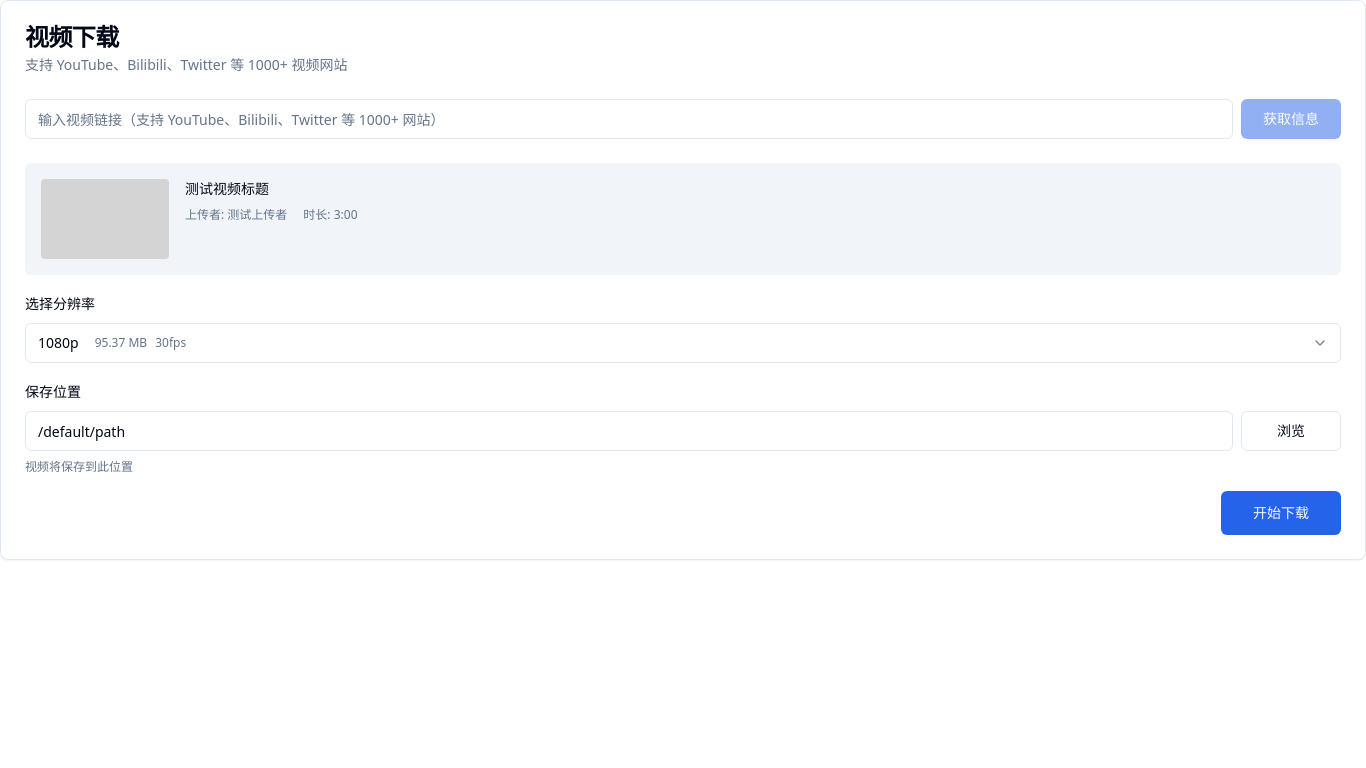
Test: DownloadForm › 应该在获取视频信息失败时显示错误
The width and height of the screenshot is (1366, 768).
In the field with placeholder "输入视频链接（支持 YouTube、Bilibili、Twitter 等 1000+ 网站）": (629, 119) [25,99,1233,139], type "https://unsupported.com/video"
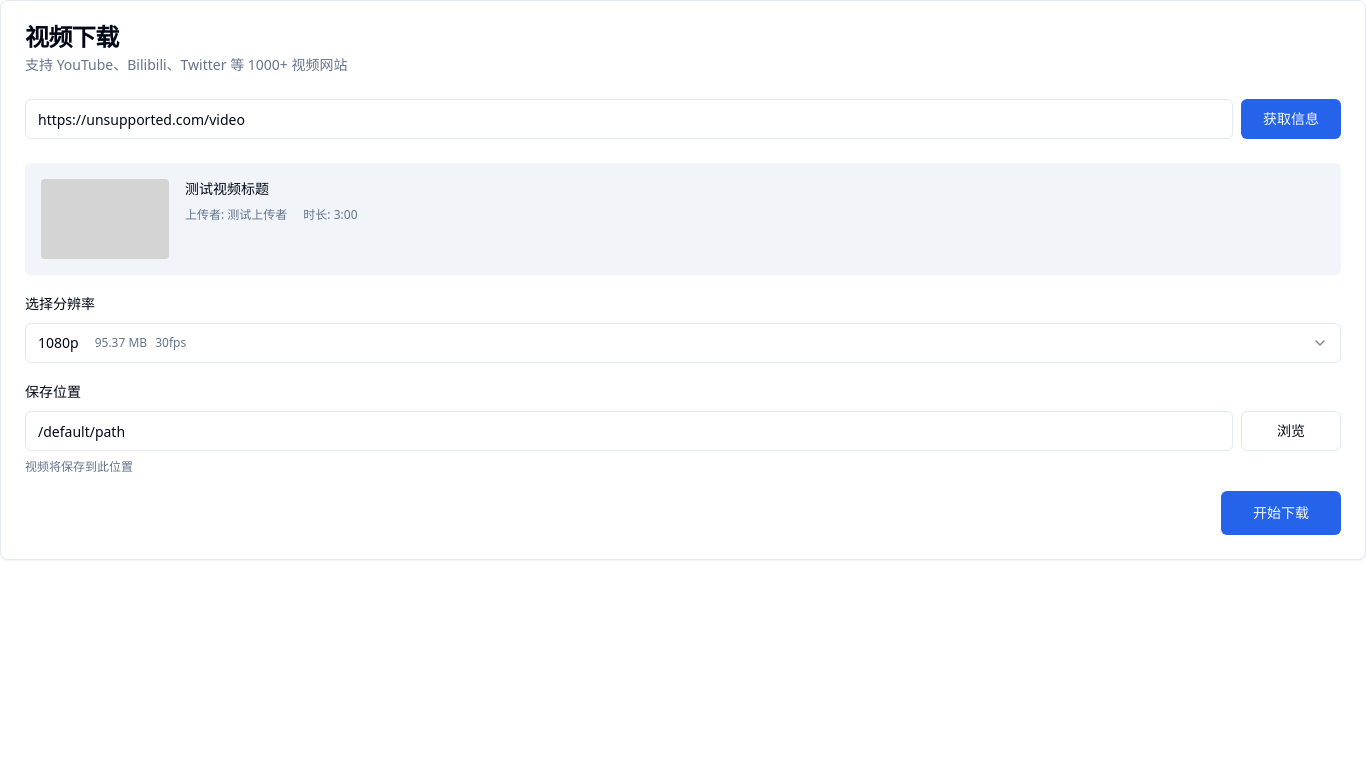
Submit the form with placeholder "输入视频链接", box [25,99,1341,139]
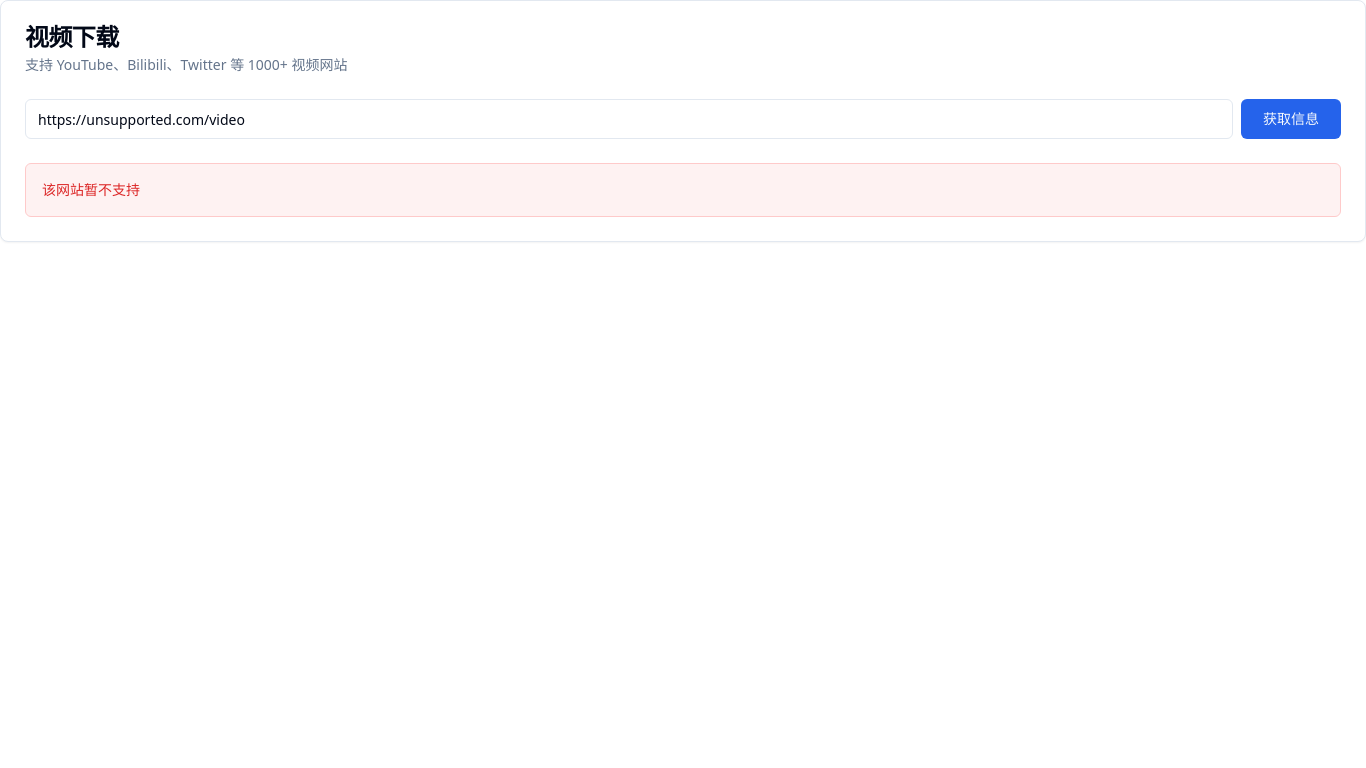
Expected: the text "该网站暂不支持" is shown, [42,180,140,199]
